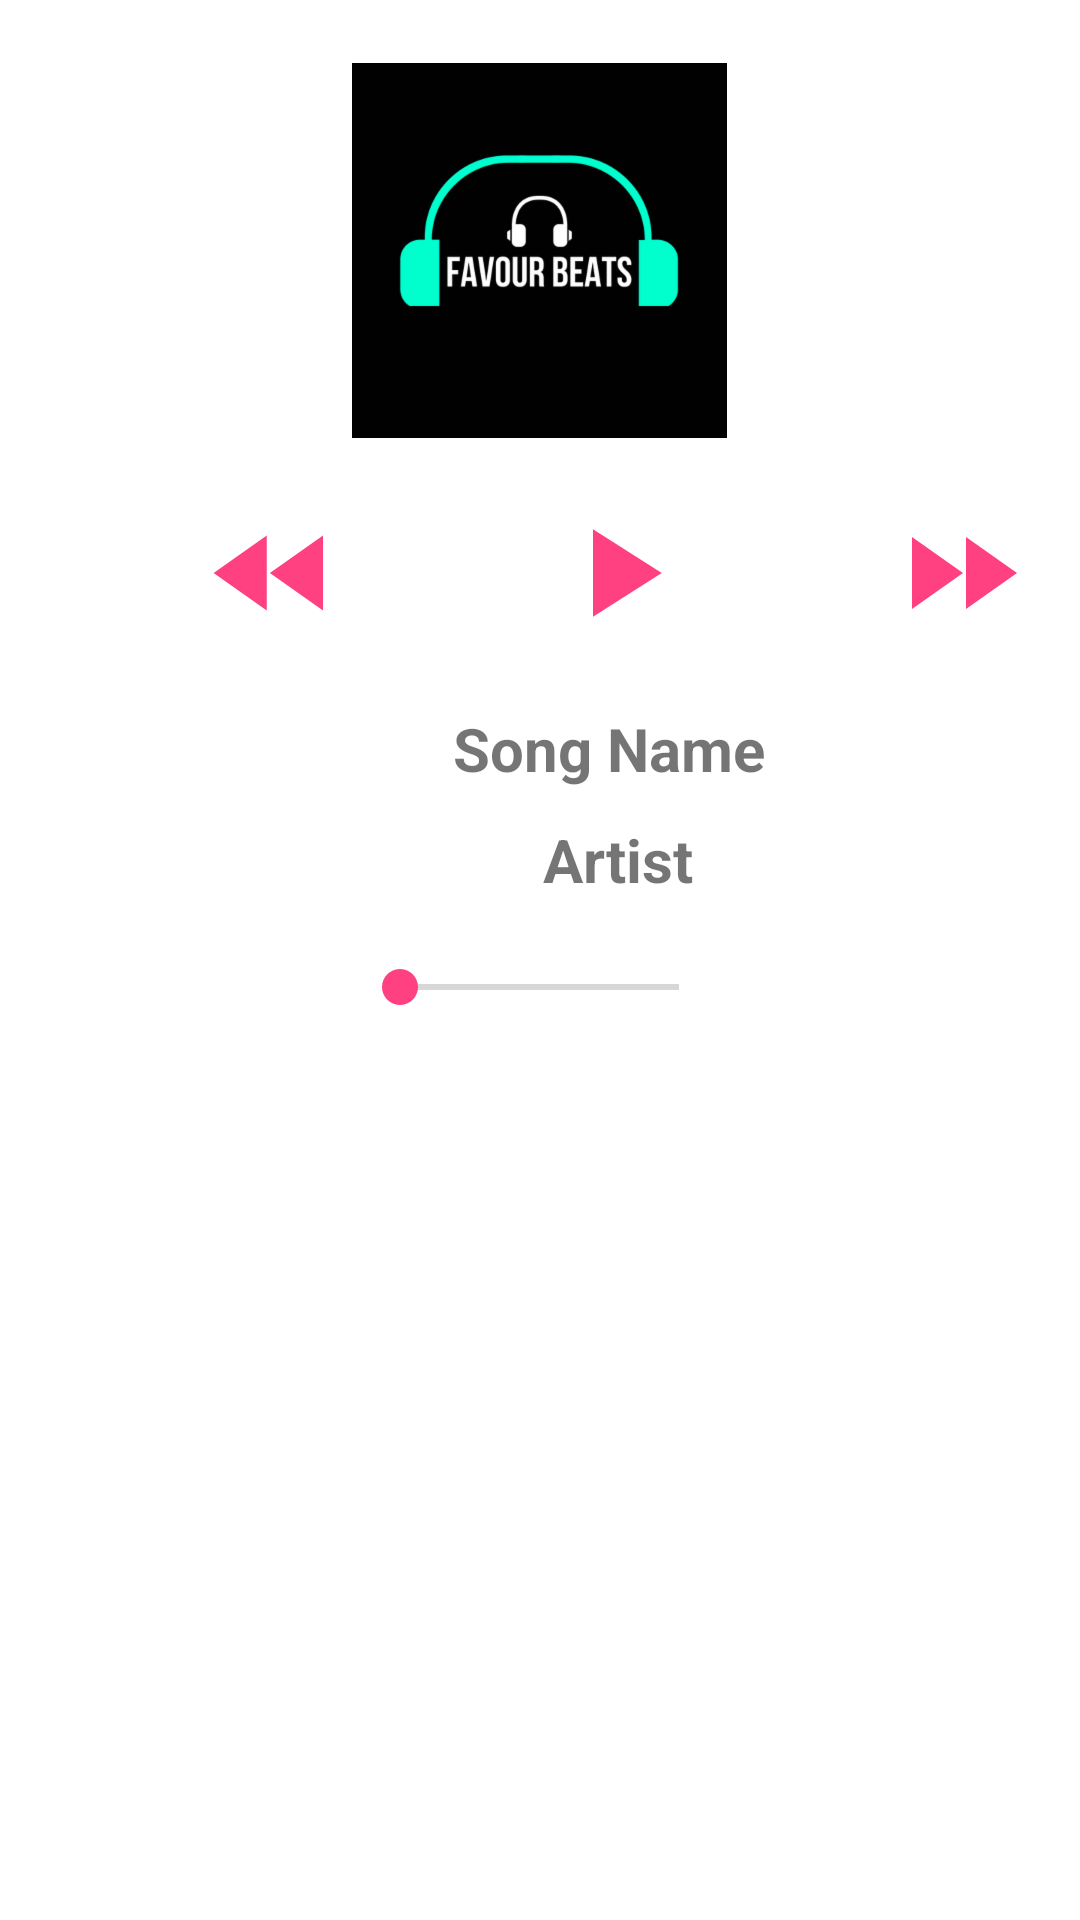

Named icons in this screenshot (1080×1920) and their centers, [x,y]:
fast forward: [964,573]
fast rewind: [268,573]
play arrow: [627,573]
